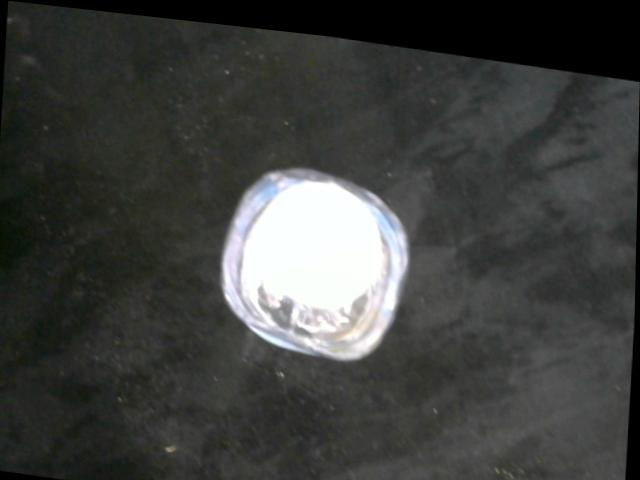bottle: (218, 149, 416, 364)
